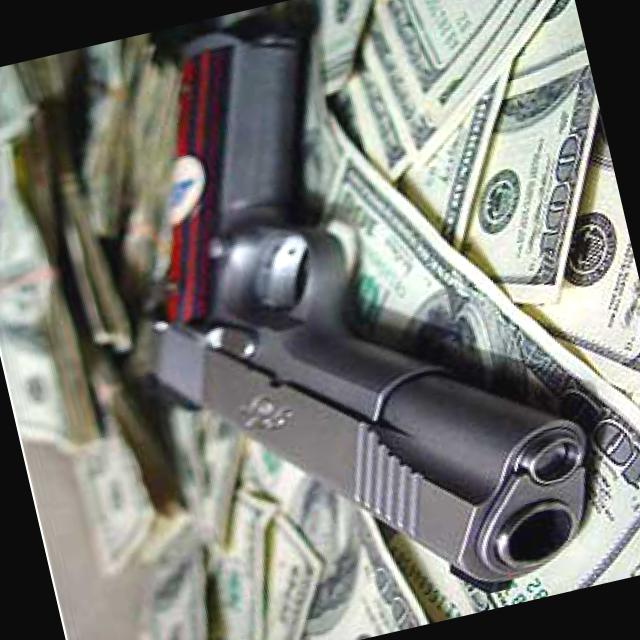handgun: (69, 0, 605, 639)
